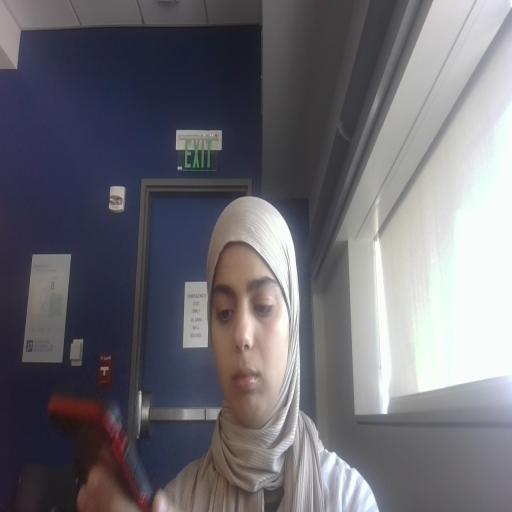phone: (30, 370, 256, 512)
